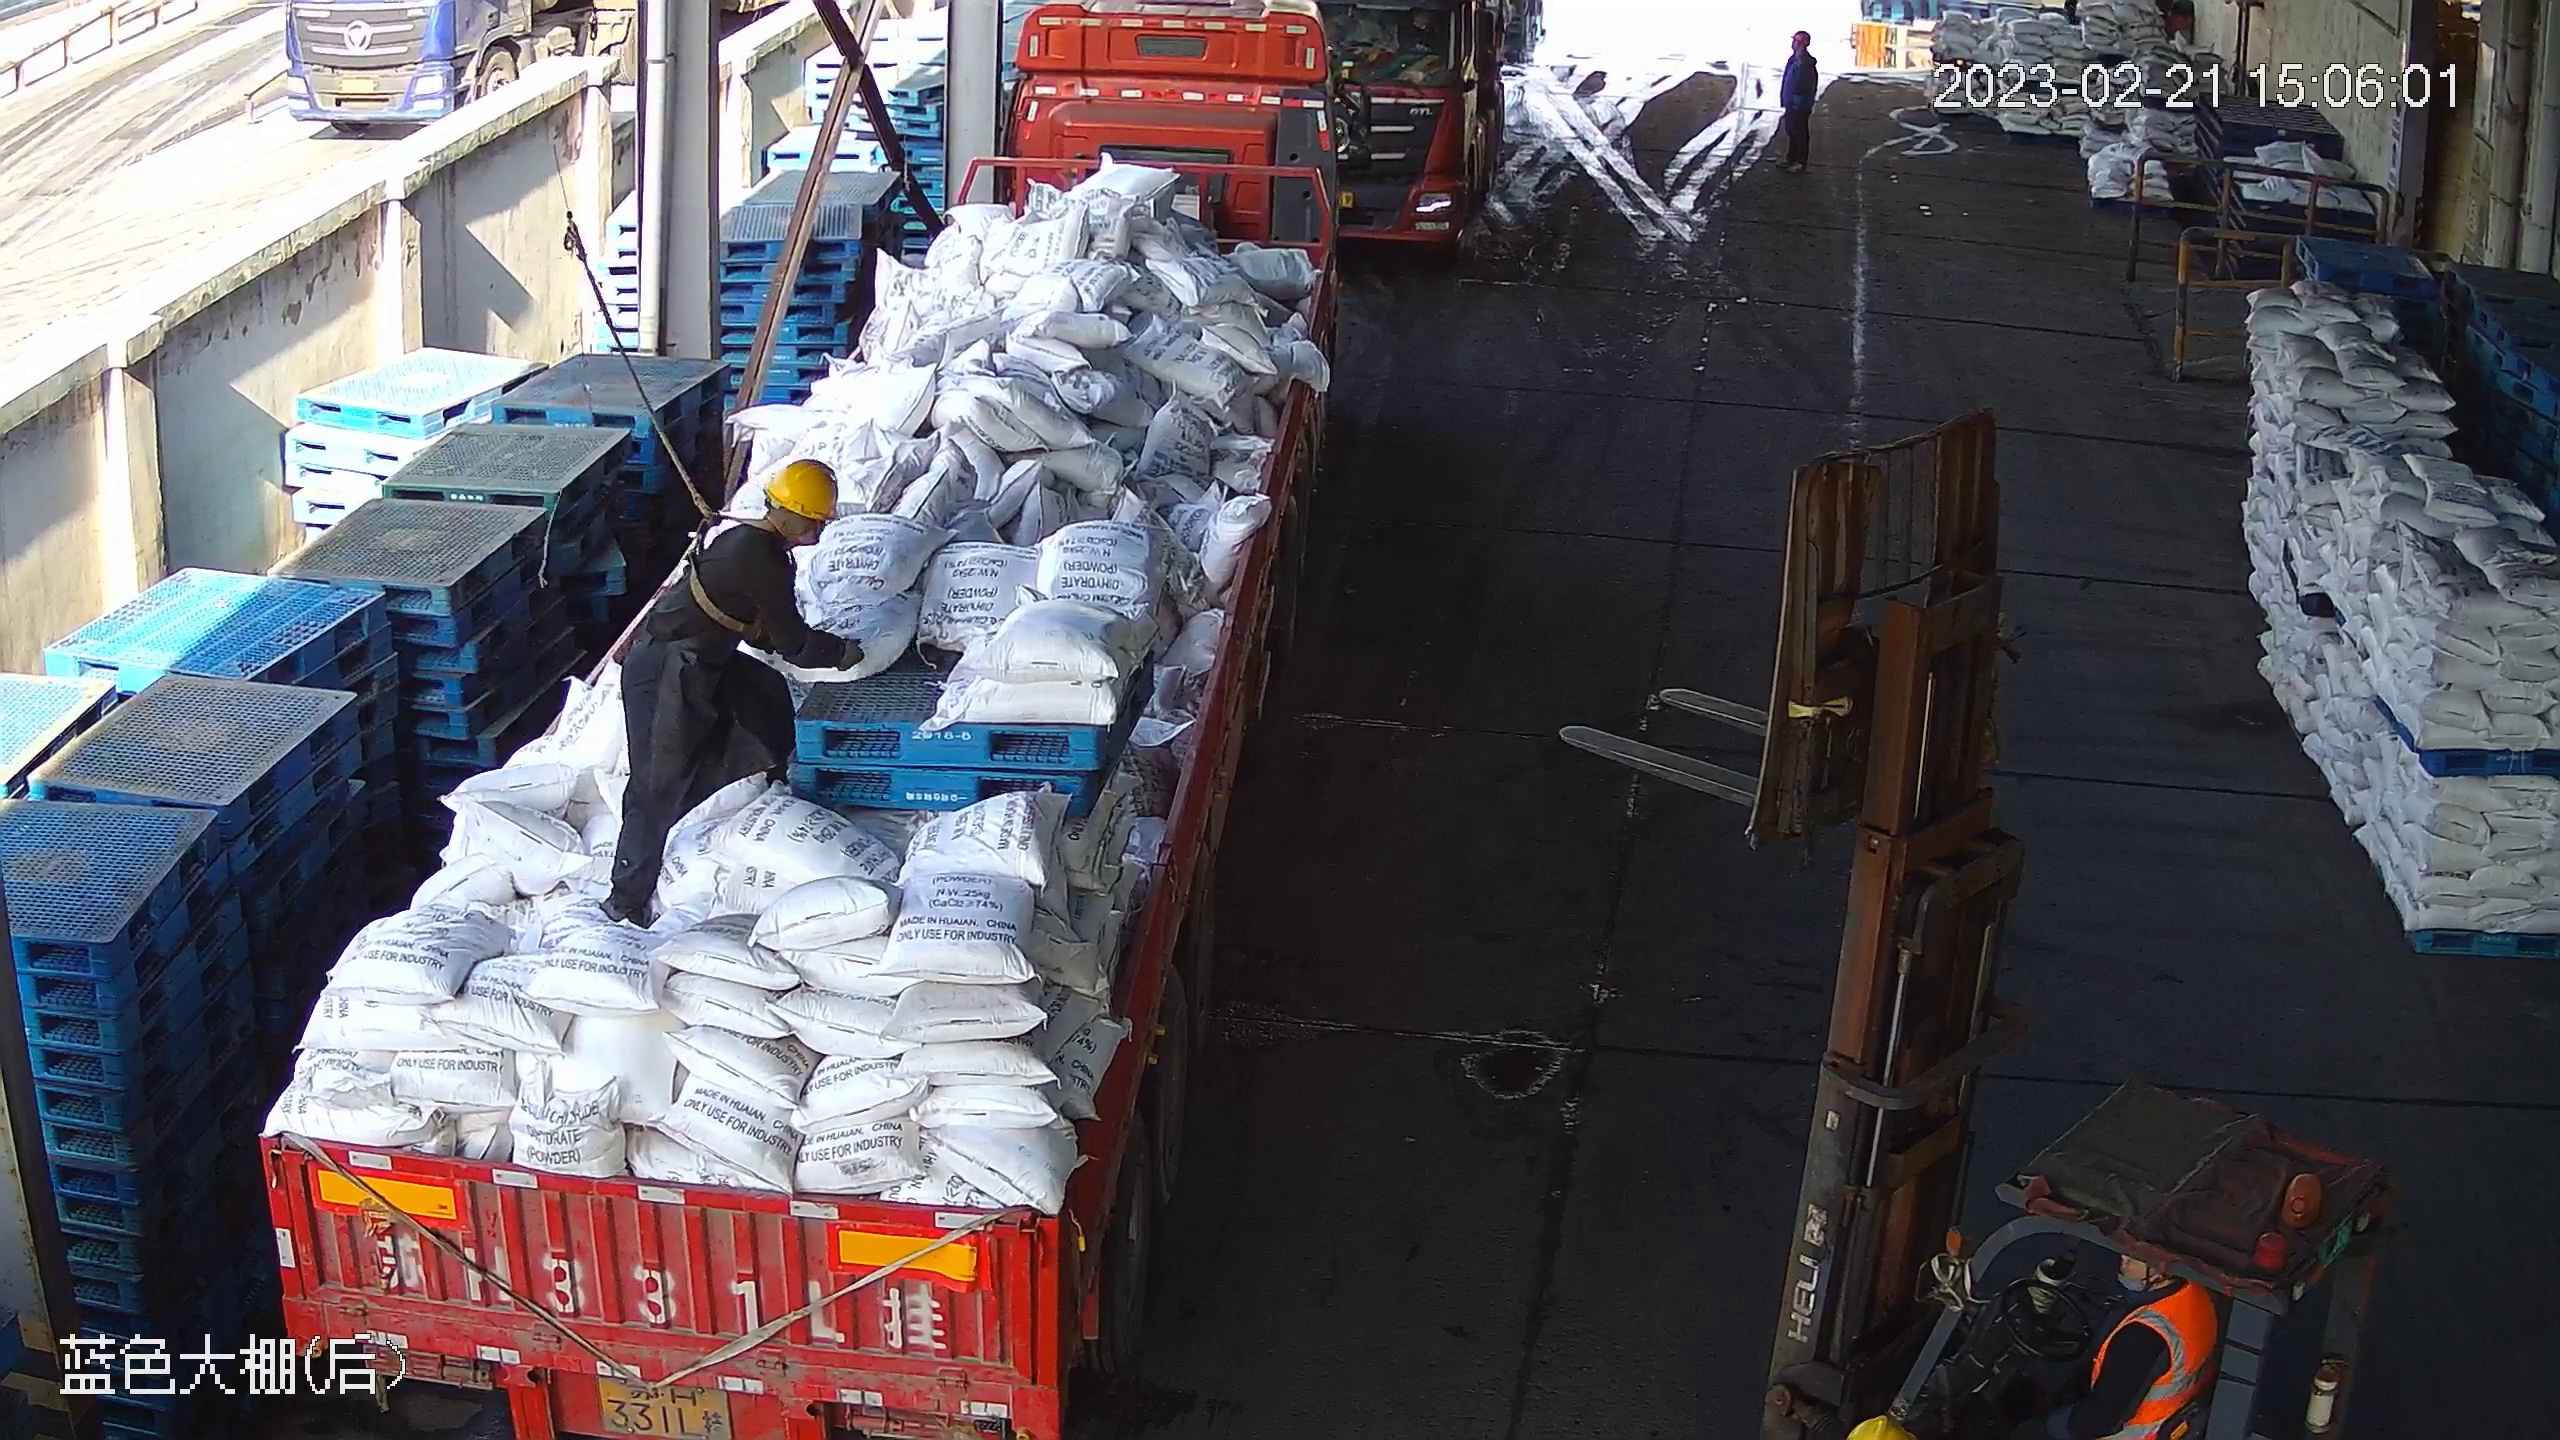belt: (667, 470, 763, 642)
head: (682, 459, 840, 617)
helmet: (763, 458, 838, 521), (1793, 30, 1808, 44)
people: (599, 459, 867, 929), (1776, 31, 1820, 173), (1776, 29, 1819, 72)
truck: (254, 1, 1356, 1436), (1323, 1, 1519, 260)
